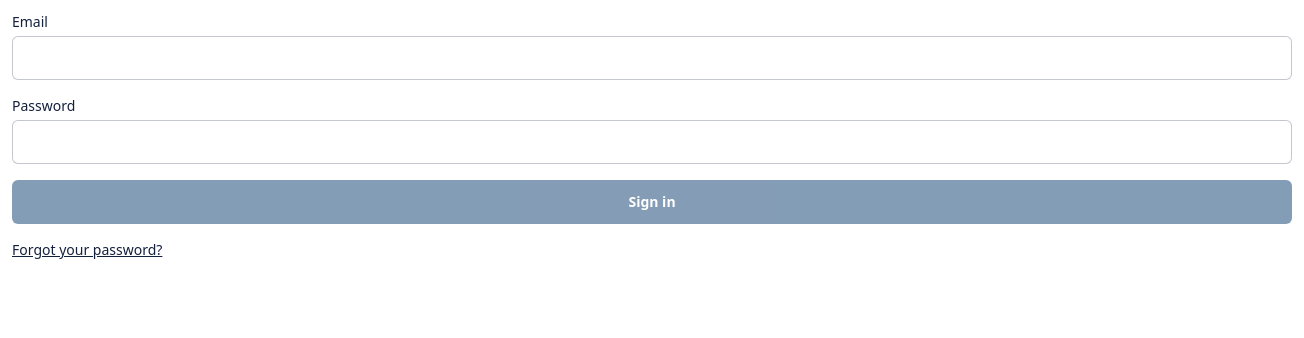
Test: LoginForm › shows a clear message for {"status":403,"code":"account_suspended","fieldErrors":{}}
Type "ada@example.test" into the field labelled "Email". click: (652, 58)
box: x1=12 y1=36 x2=1292 y2=80
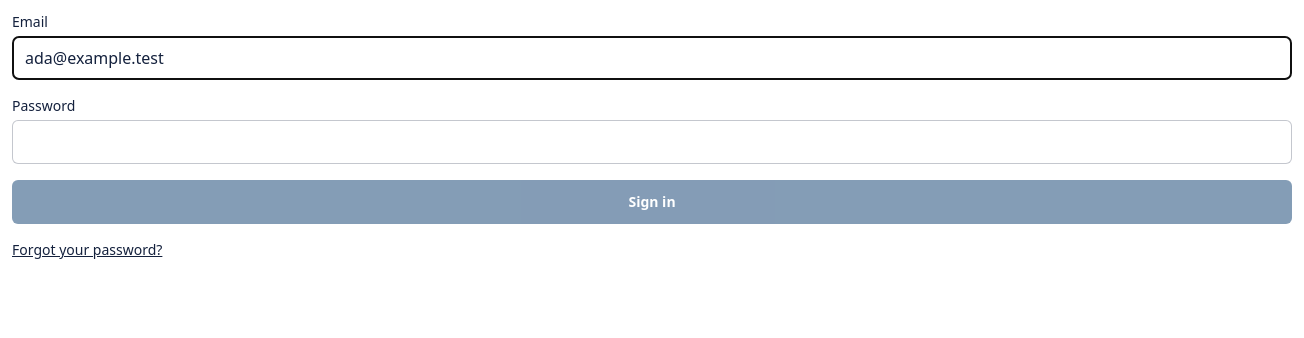
Type "Str0ng-Passphrase-1" into the password field labelled "Password". click: (652, 142)
box: x1=12 y1=120 x2=1292 y2=164
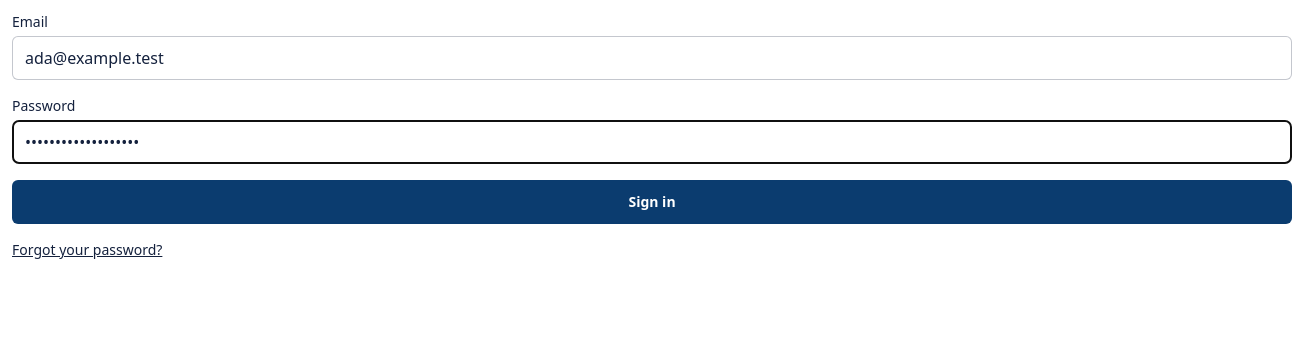
Click the button "Sign in". click: (652, 202)
box: x1=12 y1=180 x2=1292 y2=224
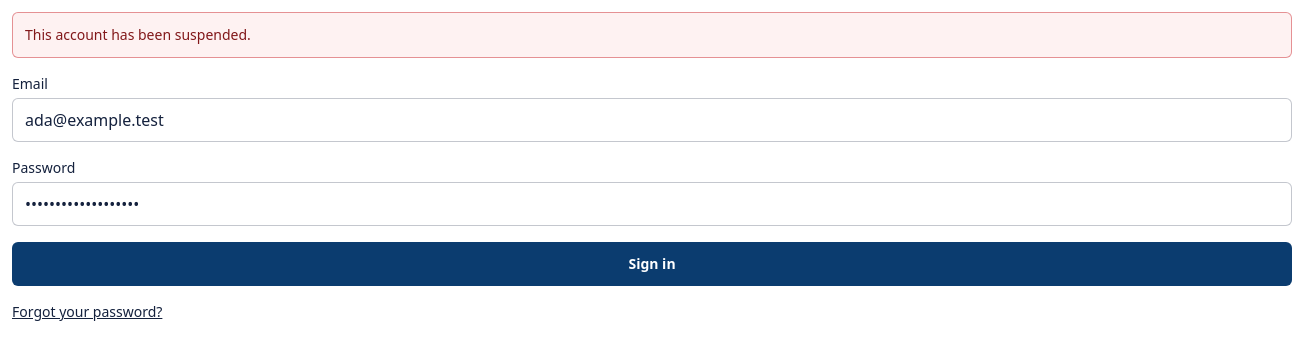
Expected: the message shows "suspended", x1=25 y1=25 x2=251 y2=44
